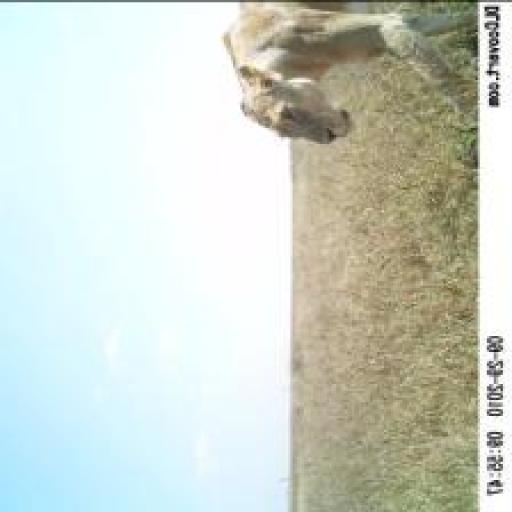lion: (199, 9, 476, 176)
